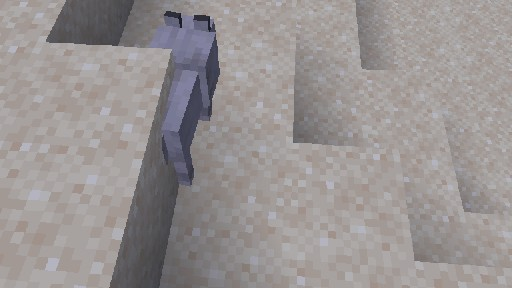wolf: (128, 10, 219, 198)
